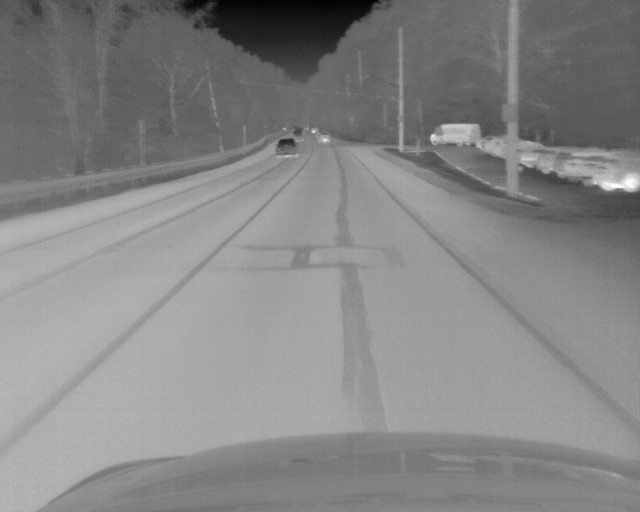car: (582, 150, 640, 193), (557, 148, 603, 186), (427, 121, 478, 146), (540, 146, 579, 175), (512, 140, 543, 165), (479, 135, 514, 157), (275, 138, 300, 160), (316, 131, 330, 144), (292, 127, 305, 138), (309, 126, 318, 134)
